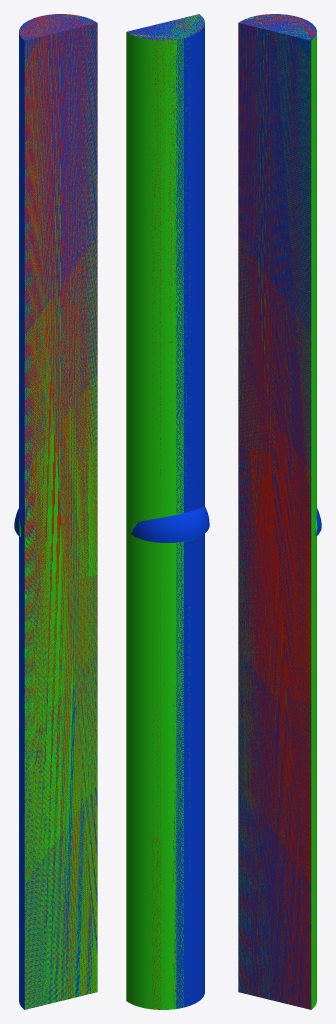
Rendered from led_çizgi.fbx.
The picture shows the model from 3 angles, left to right: view 1: azimuth 30°, elevation 25°; view 2: azimuth 210°, elevation 25°; view 3: azimuth 330°, elevation 25°; orthographic projection.
Visible parts, largest first — view 1: Cylinder.001, Cylinder.002, Cylinder; view 2: Cylinder.002, Cylinder, Cylinder.001, Cylinder.005; view 3: Cylinder.001, Cylinder, Cylinder.002.
Boxes of the visible parts, box(x1,y1,x2,y2) form: Cylinder.001: box(19, 14, 97, 1009); Cylinder.002: box(20, 14, 97, 1009); Cylinder: box(19, 14, 97, 1009); Cylinder.002: box(126, 14, 204, 1009); Cylinder: box(127, 14, 204, 1008); Cylinder.001: box(127, 14, 204, 1009); Cylinder.005: box(131, 506, 209, 542); Cylinder.001: box(238, 14, 316, 1009); Cylinder: box(238, 14, 316, 1009); Cylinder.002: box(238, 14, 316, 1009).
Size of the model in its own units: 0.1455 by 1.84 by 0.0891.
